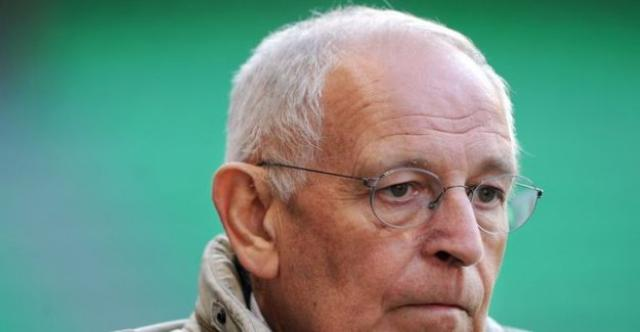forehead: (380, 106, 504, 142)
